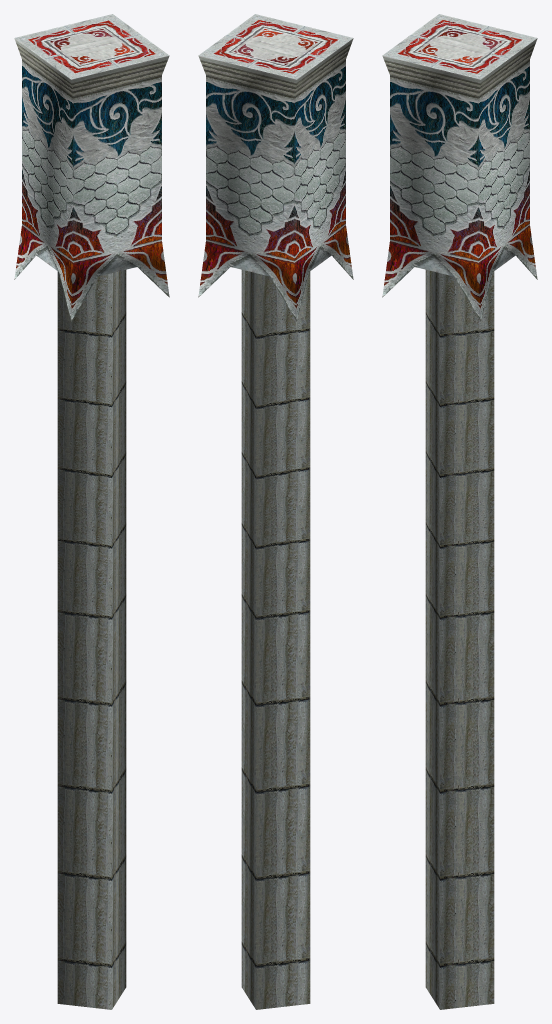
The model's file is RisingPlatformSmall.obj.
The picture shows the model from 3 angles, left to right: view 1: azimuth 30°, elevation 25°; view 2: azimuth 150°, elevation 25°; view 3: azimuth 330°, elevation 25°; orthographic projection.
Bounding box in the file's own units: 50 × 460 × 50.
Materials: 7 (7 with a texture image).
